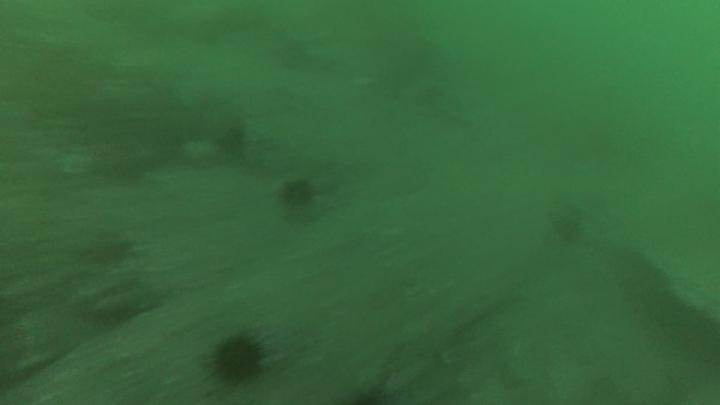echinus: (207, 328, 270, 386), (277, 175, 318, 210), (213, 121, 250, 158)
